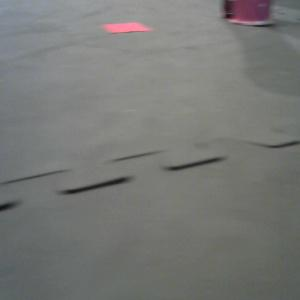right: (220, 1, 281, 27)
